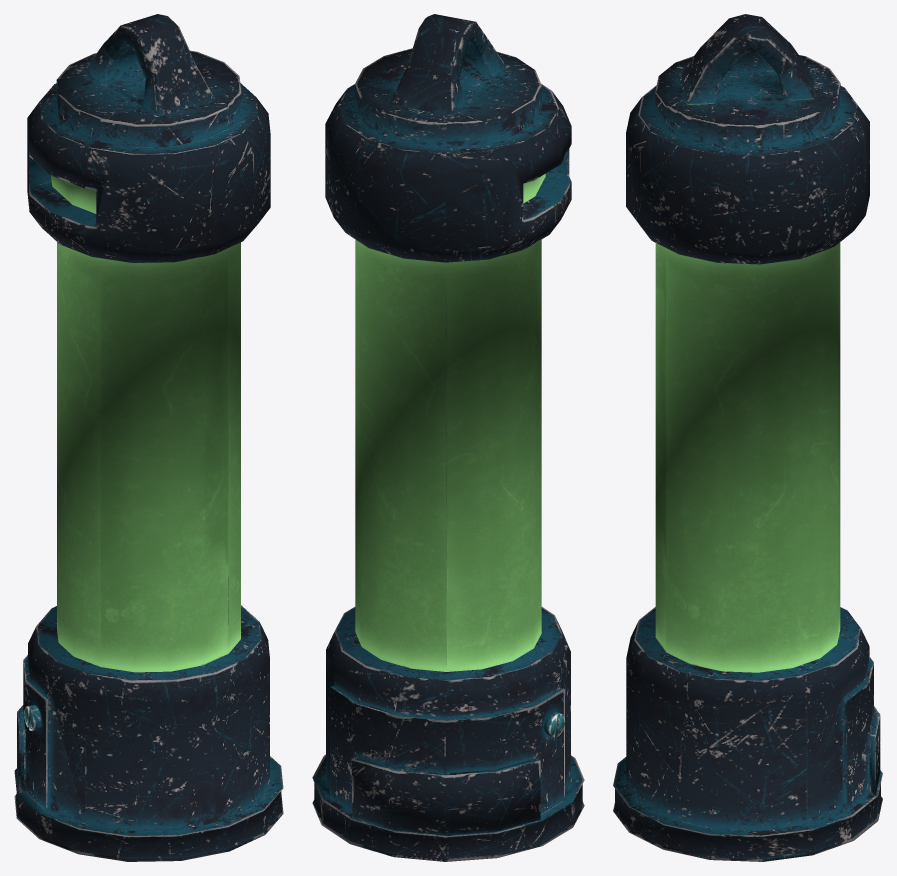
File: tank.gltf
3 views of the same model, side by side, from view 1: azimuth 30°, elevation 25°; view 2: azimuth 150°, elevation 25°; view 3: azimuth 270°, elevation 25° (orthographic).
Parts seen in each view (by area): view 1: Cylinder.001; view 2: Cylinder.001; view 3: Cylinder.001.
Part boxes in pixels (x1,y1,x2,y2): Cylinder.001: [14, 14, 283, 861]; Cylinder.001: [312, 14, 584, 861]; Cylinder.001: [613, 14, 882, 861].
Size of the model in its own units: 2.28 by 7.28 by 2.28.
1 material, 1 textured.
